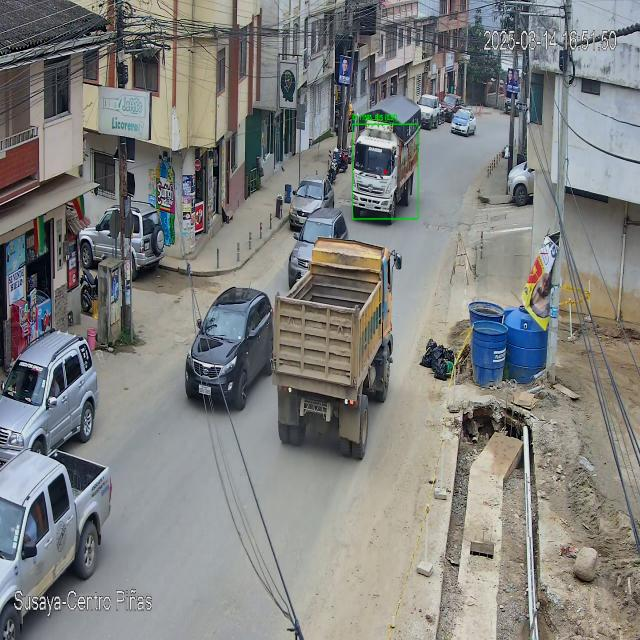CMT: (0, 450, 112, 640)
SUV: (182, 286, 274, 415)
TRUCK: (272, 238, 392, 460)
